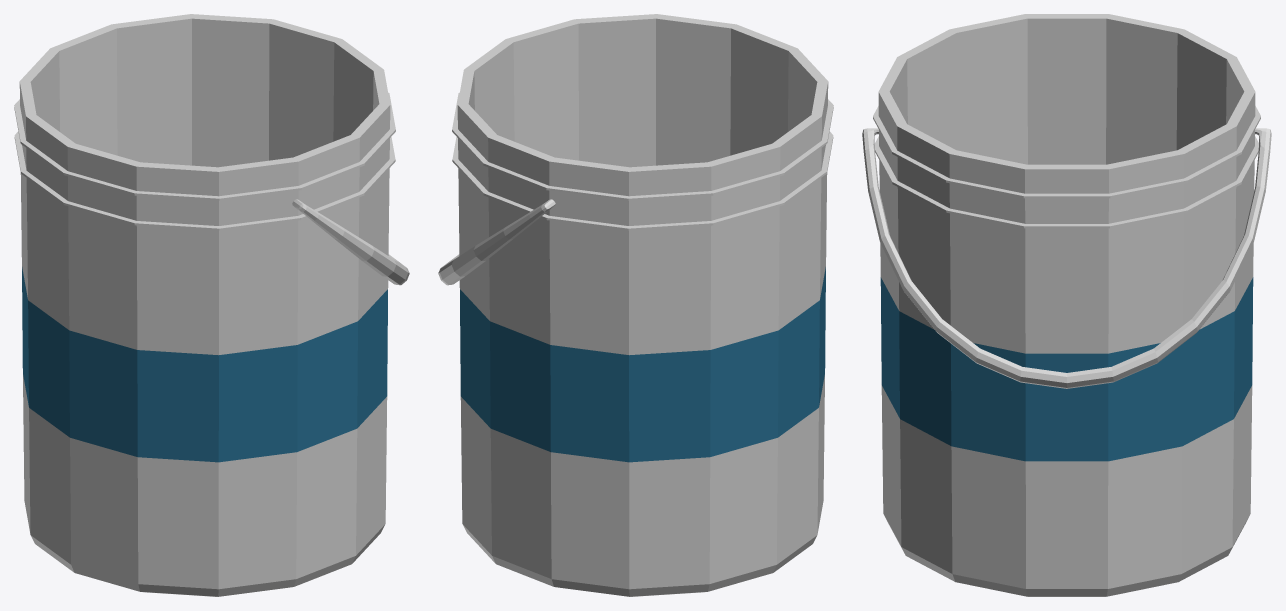
The model's file is plasticBucket.fbx.
3 renders of one model, left to right at view 1: azimuth 30°, elevation 25°; view 2: azimuth 150°, elevation 25°; view 3: azimuth 270°, elevation 25°, orthographic.
Parts seen in each view (by area): view 1: plasticBucket; view 2: plasticBucket; view 3: plasticBucket.
Part boxes in pixels (x1,y1,x2,y2): plasticBucket: [14, 14, 409, 596]; plasticBucket: [438, 14, 833, 596]; plasticBucket: [862, 14, 1271, 596].
Size of the model in its own units: 45.3 by 55.03 by 46.91.
